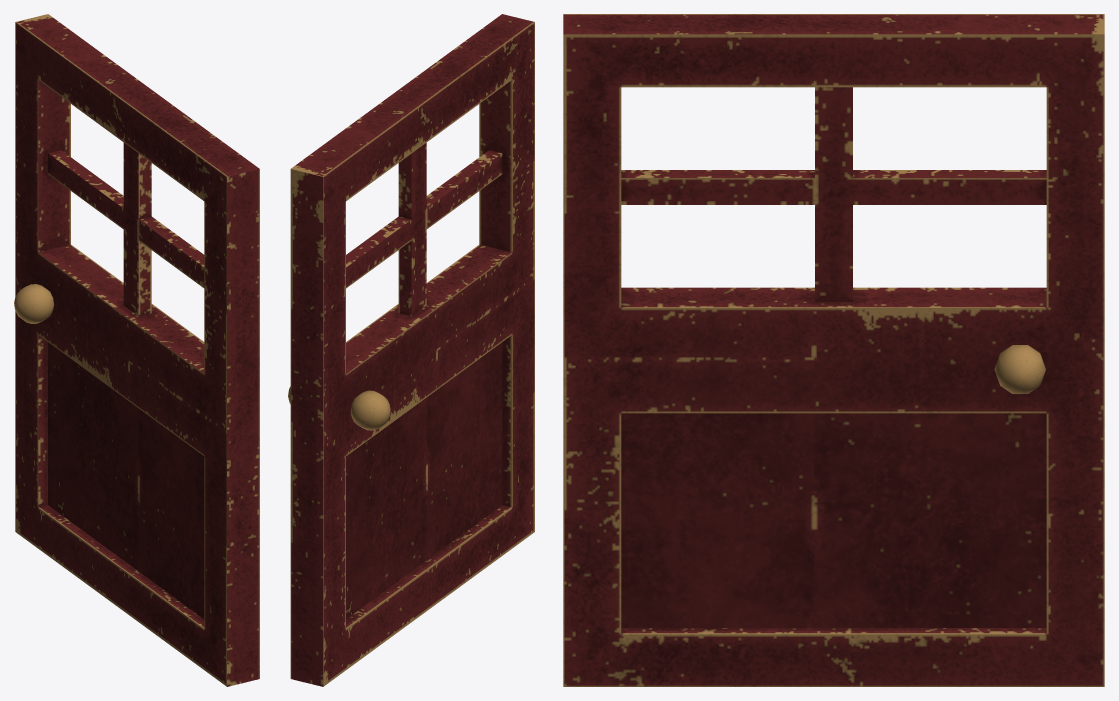
File: logCabin_door.fbx
The picture shows the model from 3 angles, left to right: view 1: azimuth 30°, elevation 25°; view 2: azimuth 150°, elevation 25°; view 3: azimuth 270°, elevation 25°; orthographic projection. The views are drawn at different scales.
Parts seen in each view (by area): view 1: pCube8; view 2: pCube8; view 3: pCube8.
Boxes of the visible parts, x1,y1,x2,y2 form: pCube8: (14,14,259,686); pCube8: (288,14,534,686); pCube8: (563,14,1104,686).
Size of the model in its own units: 26.26 by 131 by 98.71.
